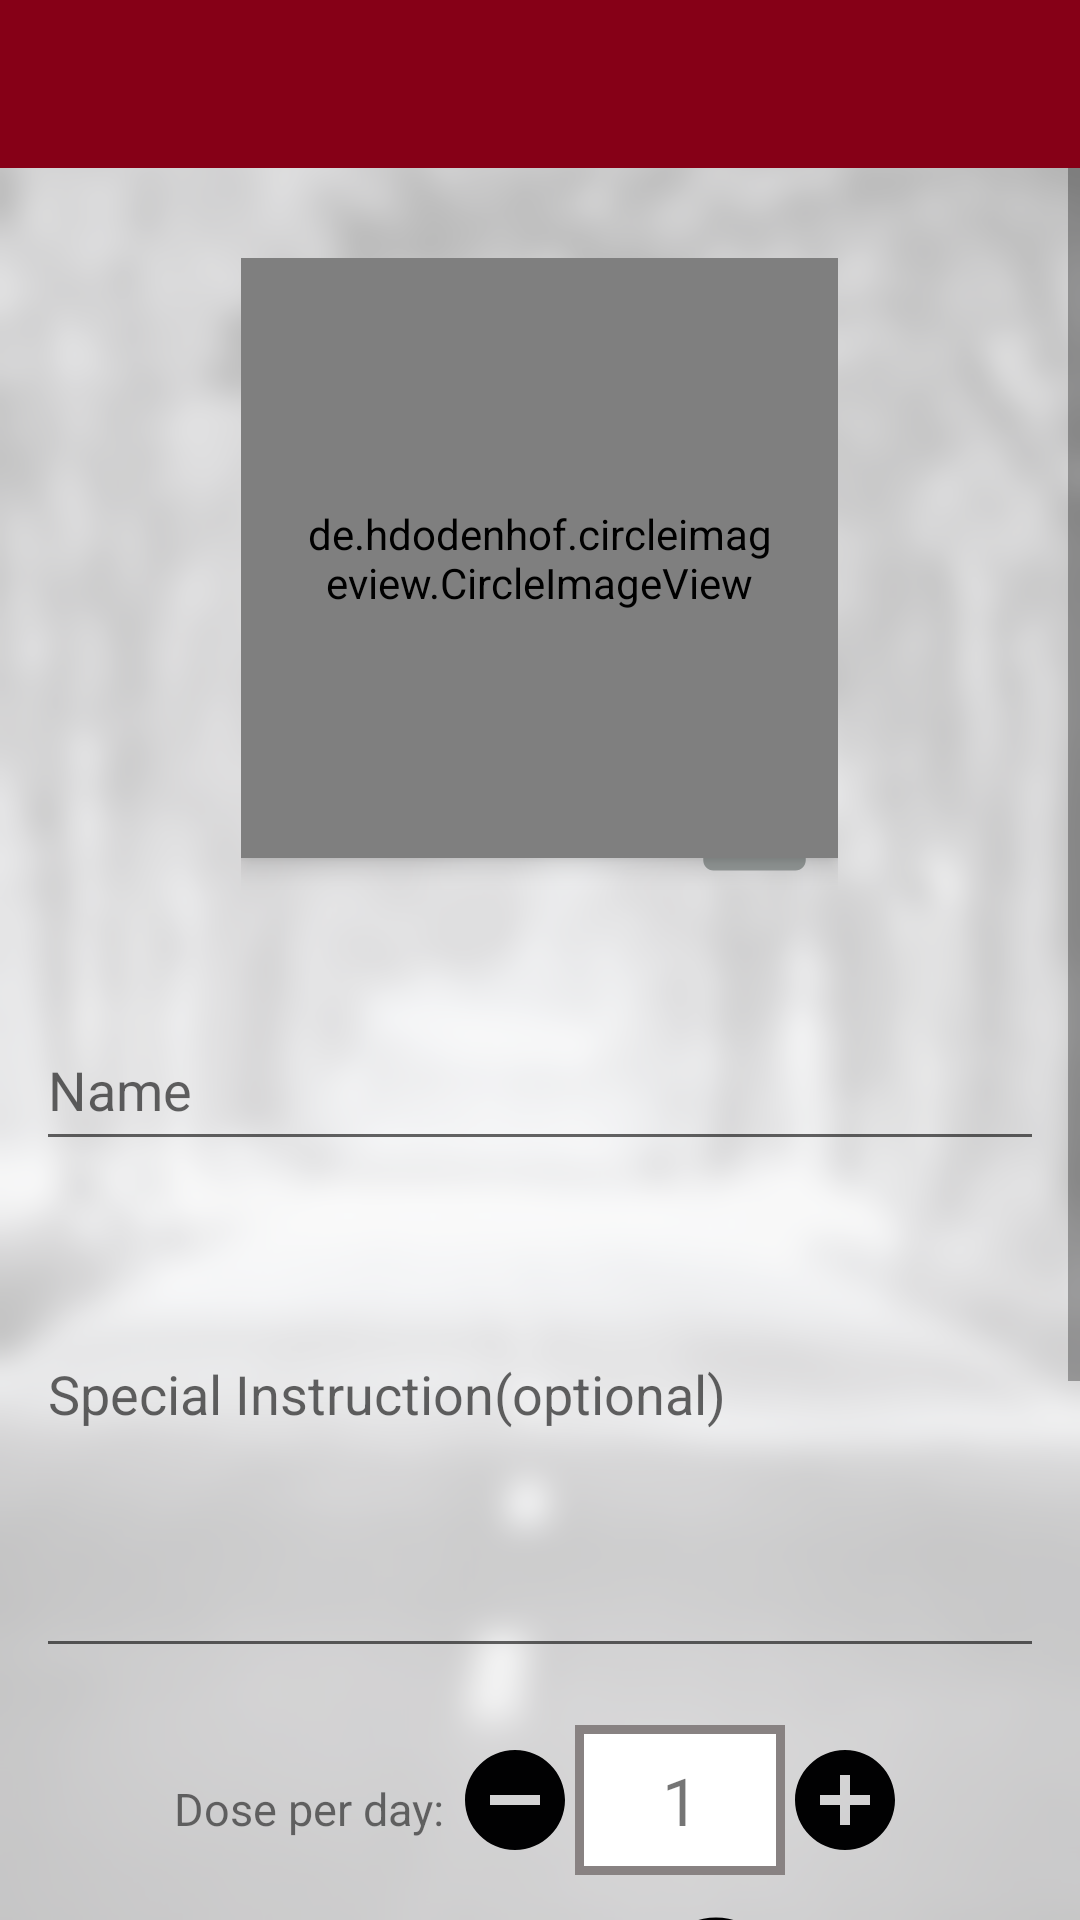

Point at icon controls on the screen. Image size 1080px x 1920px, points as (x,y).
add circle: (845,1800)
do not disturb on: (515,1800)
